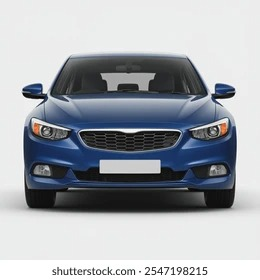car: (20, 48, 241, 207)
